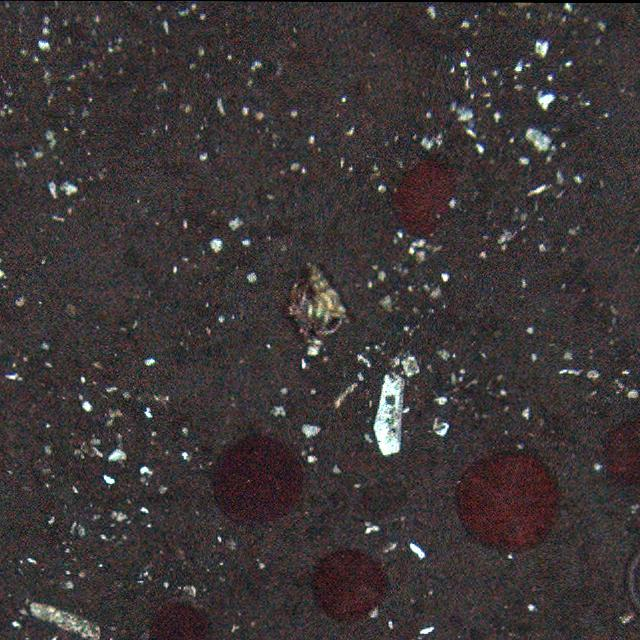whelk: (298, 262, 347, 333)
